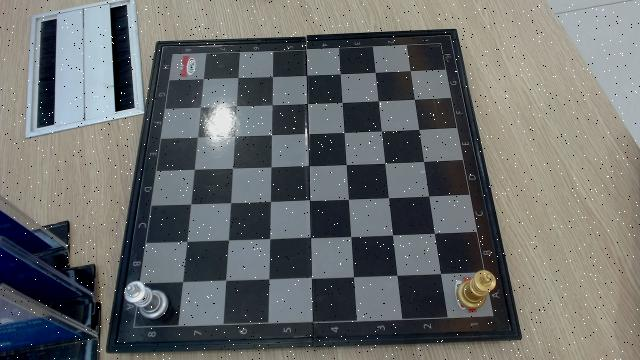black_king: (457, 267, 495, 308)
white_king: (123, 281, 166, 319)
